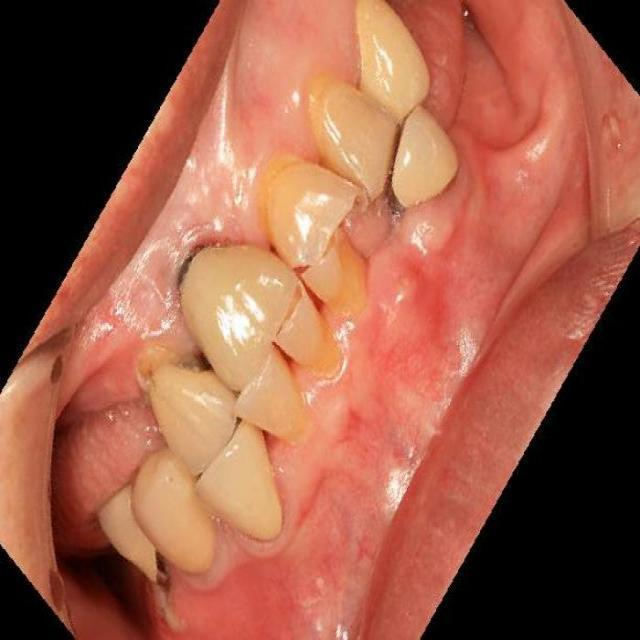CALCULUS: (181, 246, 300, 391), (275, 287, 342, 378), (329, 231, 368, 316)
